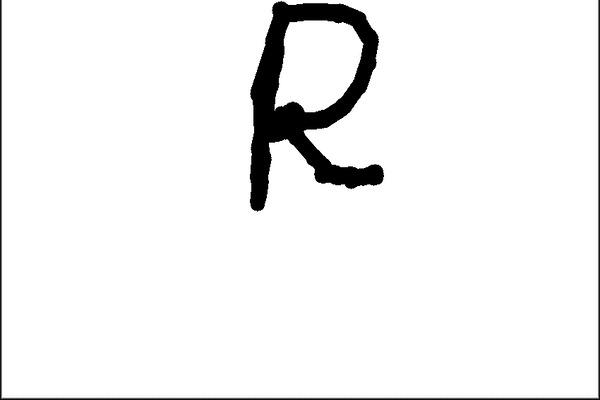R: (230, 0, 405, 220)
